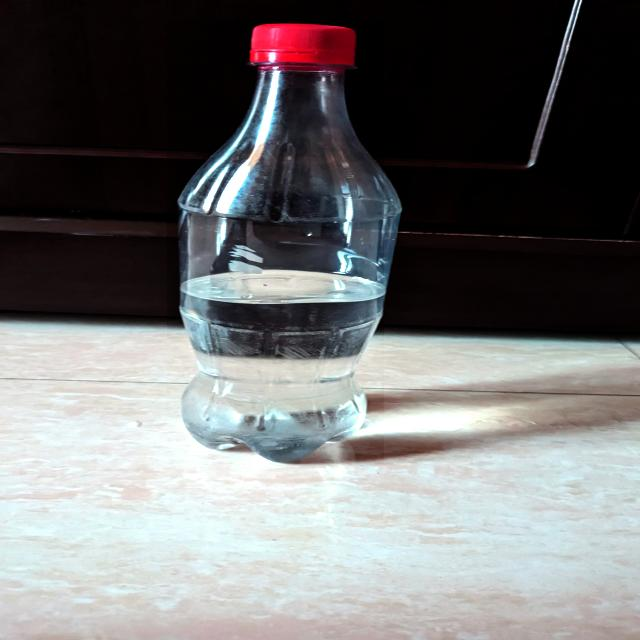half-bottle: (167, 21, 384, 464)
